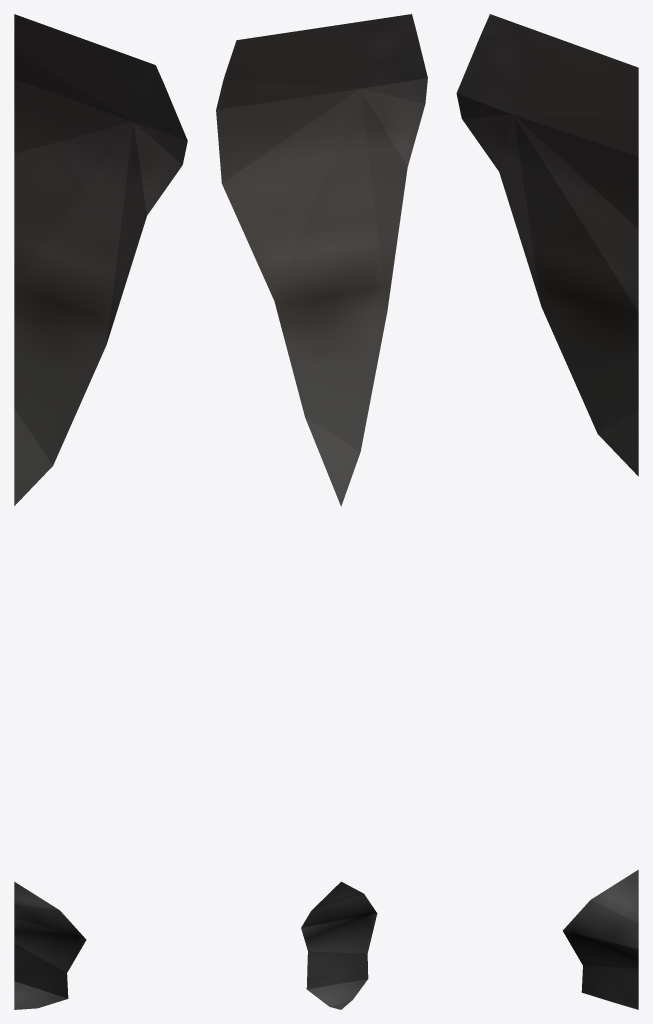
The picture shows the model from 3 angles, left to right: view 1: azimuth 90°, elevation 25°; view 2: azimuth 150°, elevation 25°; view 3: azimuth 270°, elevation 25°; orthographic projection. The views are drawn at different scales.
Size of the model in its own units: 0.0397 by 0.2861 by 0.0477.
1 material, 1 textured.
